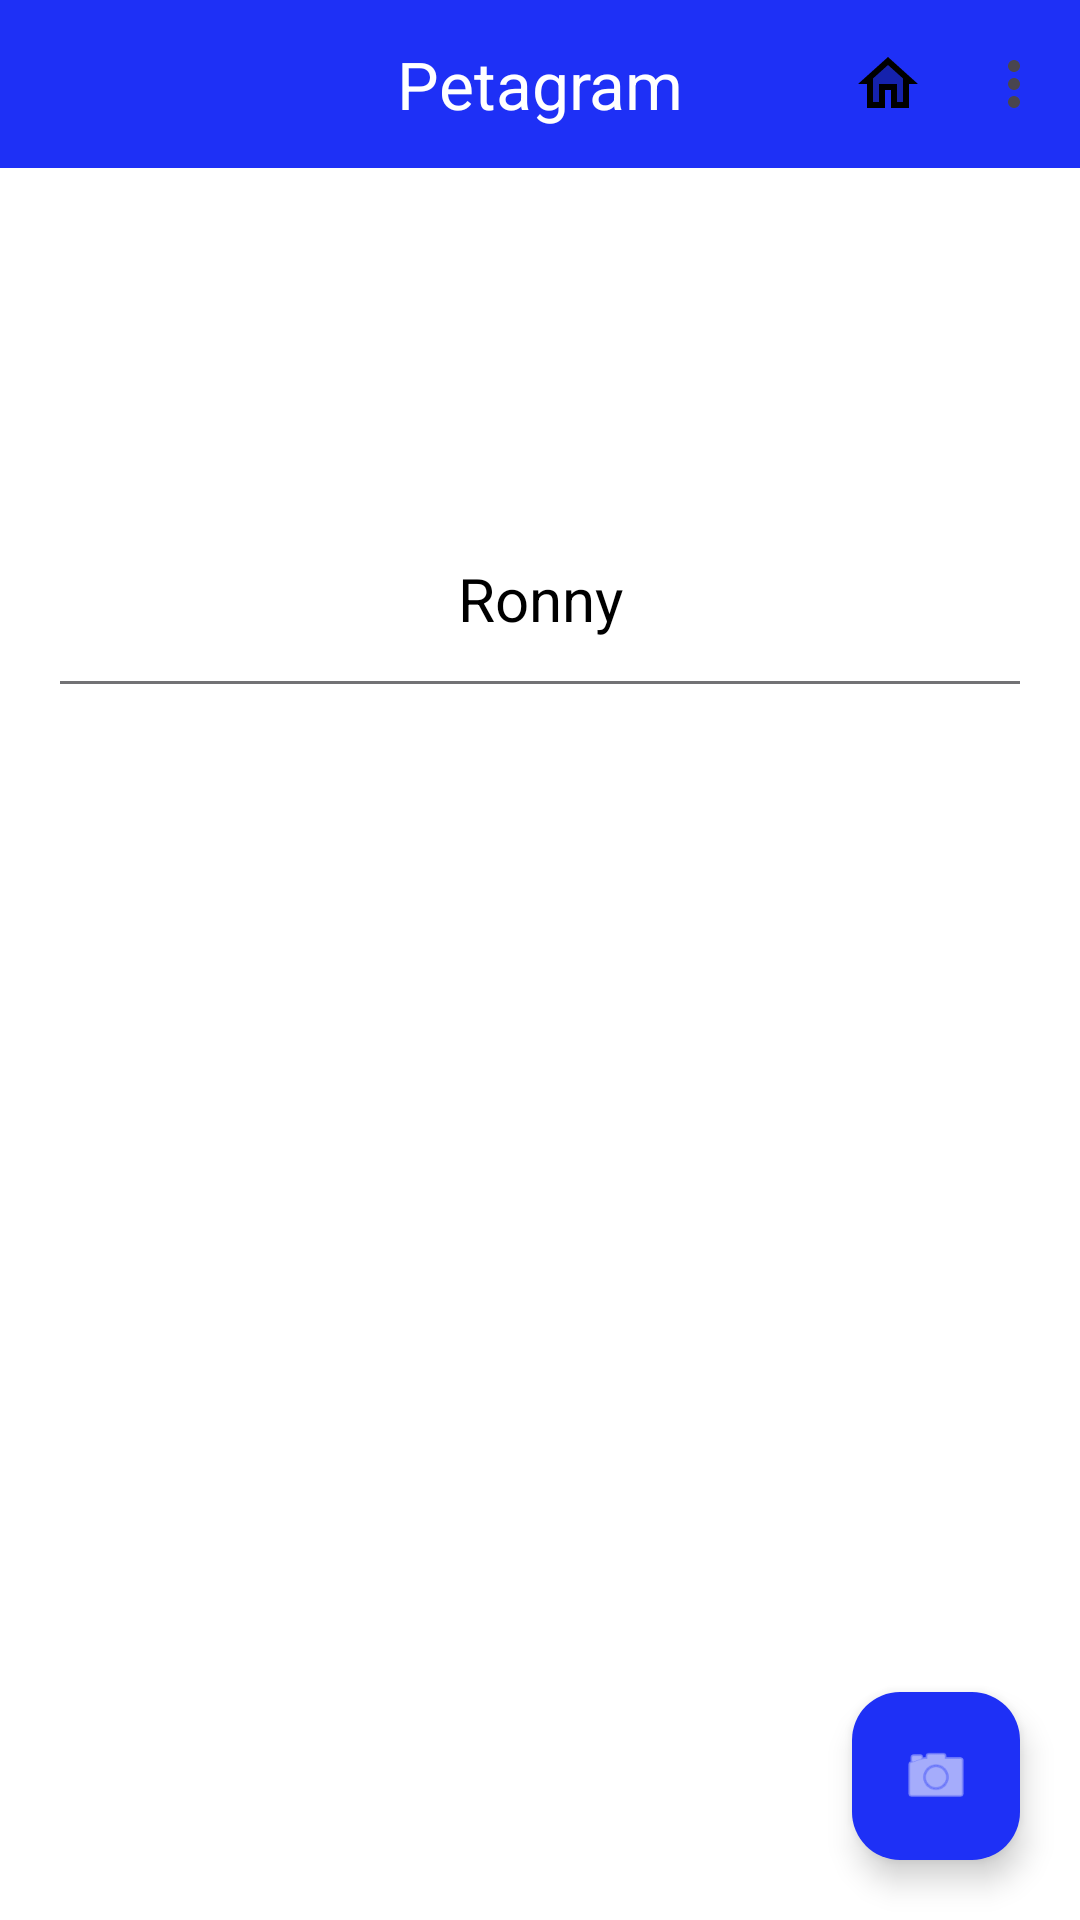

Where to tap for icons on this 1080 × 1920 app screen, as (x=x, y=y):
Abrir cámara: (x=936, y=1776)
